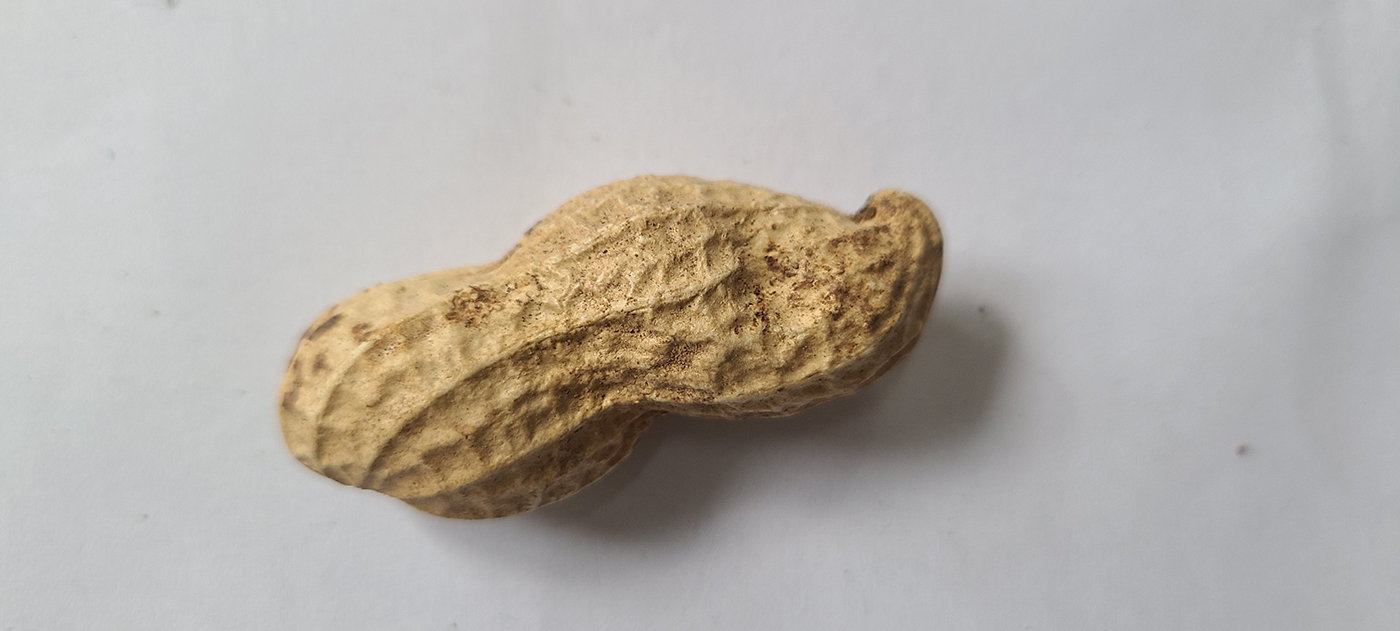h: (276, 171, 945, 525)
